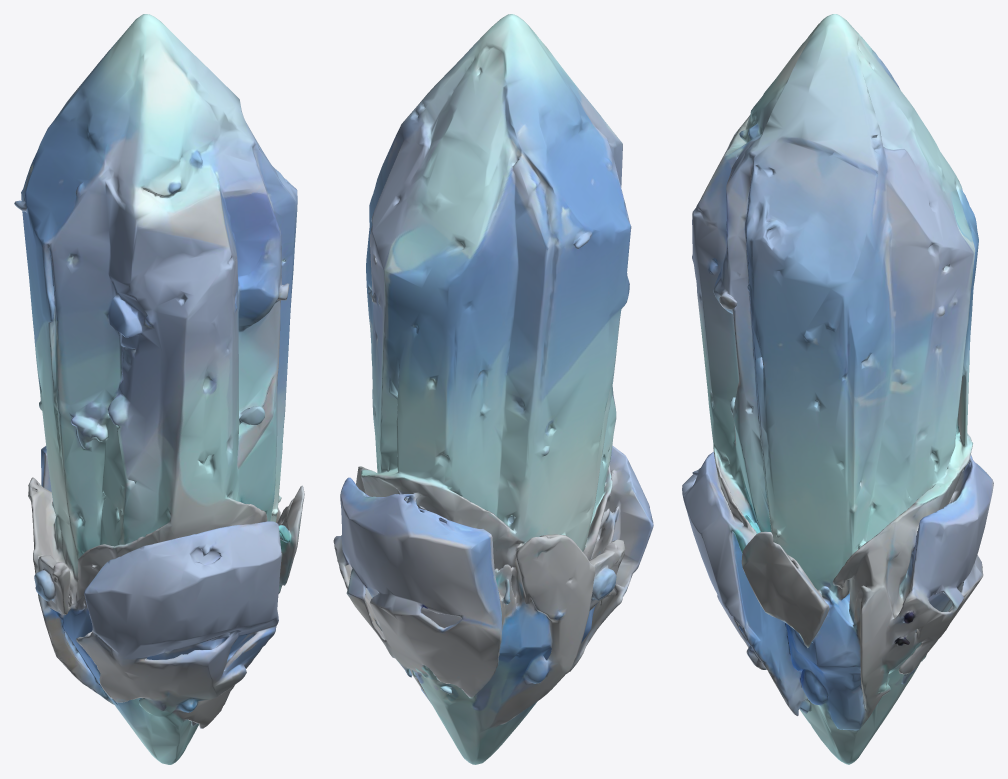
Rendered from prop-crystal-shard.glb.
The picture shows the model from 3 angles, left to right: view 1: azimuth 30°, elevation 25°; view 2: azimuth 150°, elevation 25°; view 3: azimuth 270°, elevation 25°; orthographic projection. The views are drawn at different scales.
Parts seen in each view (by area): view 1: tripo_node_96968a44-9628-47c1-b986-3c6fcdb695e4; view 2: tripo_node_96968a44-9628-47c1-b986-3c6fcdb695e4; view 3: tripo_node_96968a44-9628-47c1-b986-3c6fcdb695e4.
Boxes of the visible parts, x1,y1,x2,y2 form: tripo_node_96968a44-9628-47c1-b986-3c6fcdb695e4: [14, 14, 304, 764]; tripo_node_96968a44-9628-47c1-b986-3c6fcdb695e4: [333, 14, 653, 764]; tripo_node_96968a44-9628-47c1-b986-3c6fcdb695e4: [682, 14, 993, 764].
Size of the model in its own units: 0.1791 by 0.5 by 0.1921.
Materials: 1 (1 with a texture image).
